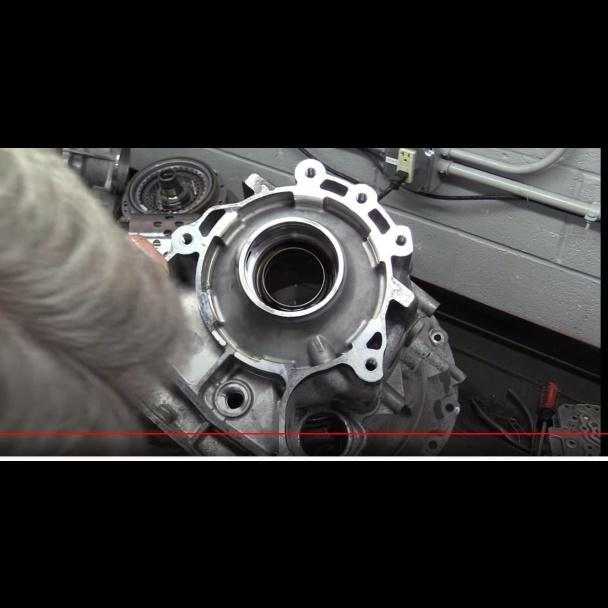hole: (364, 356, 380, 372), (179, 231, 194, 247), (302, 165, 318, 179), (394, 234, 407, 248), (355, 190, 368, 203)
